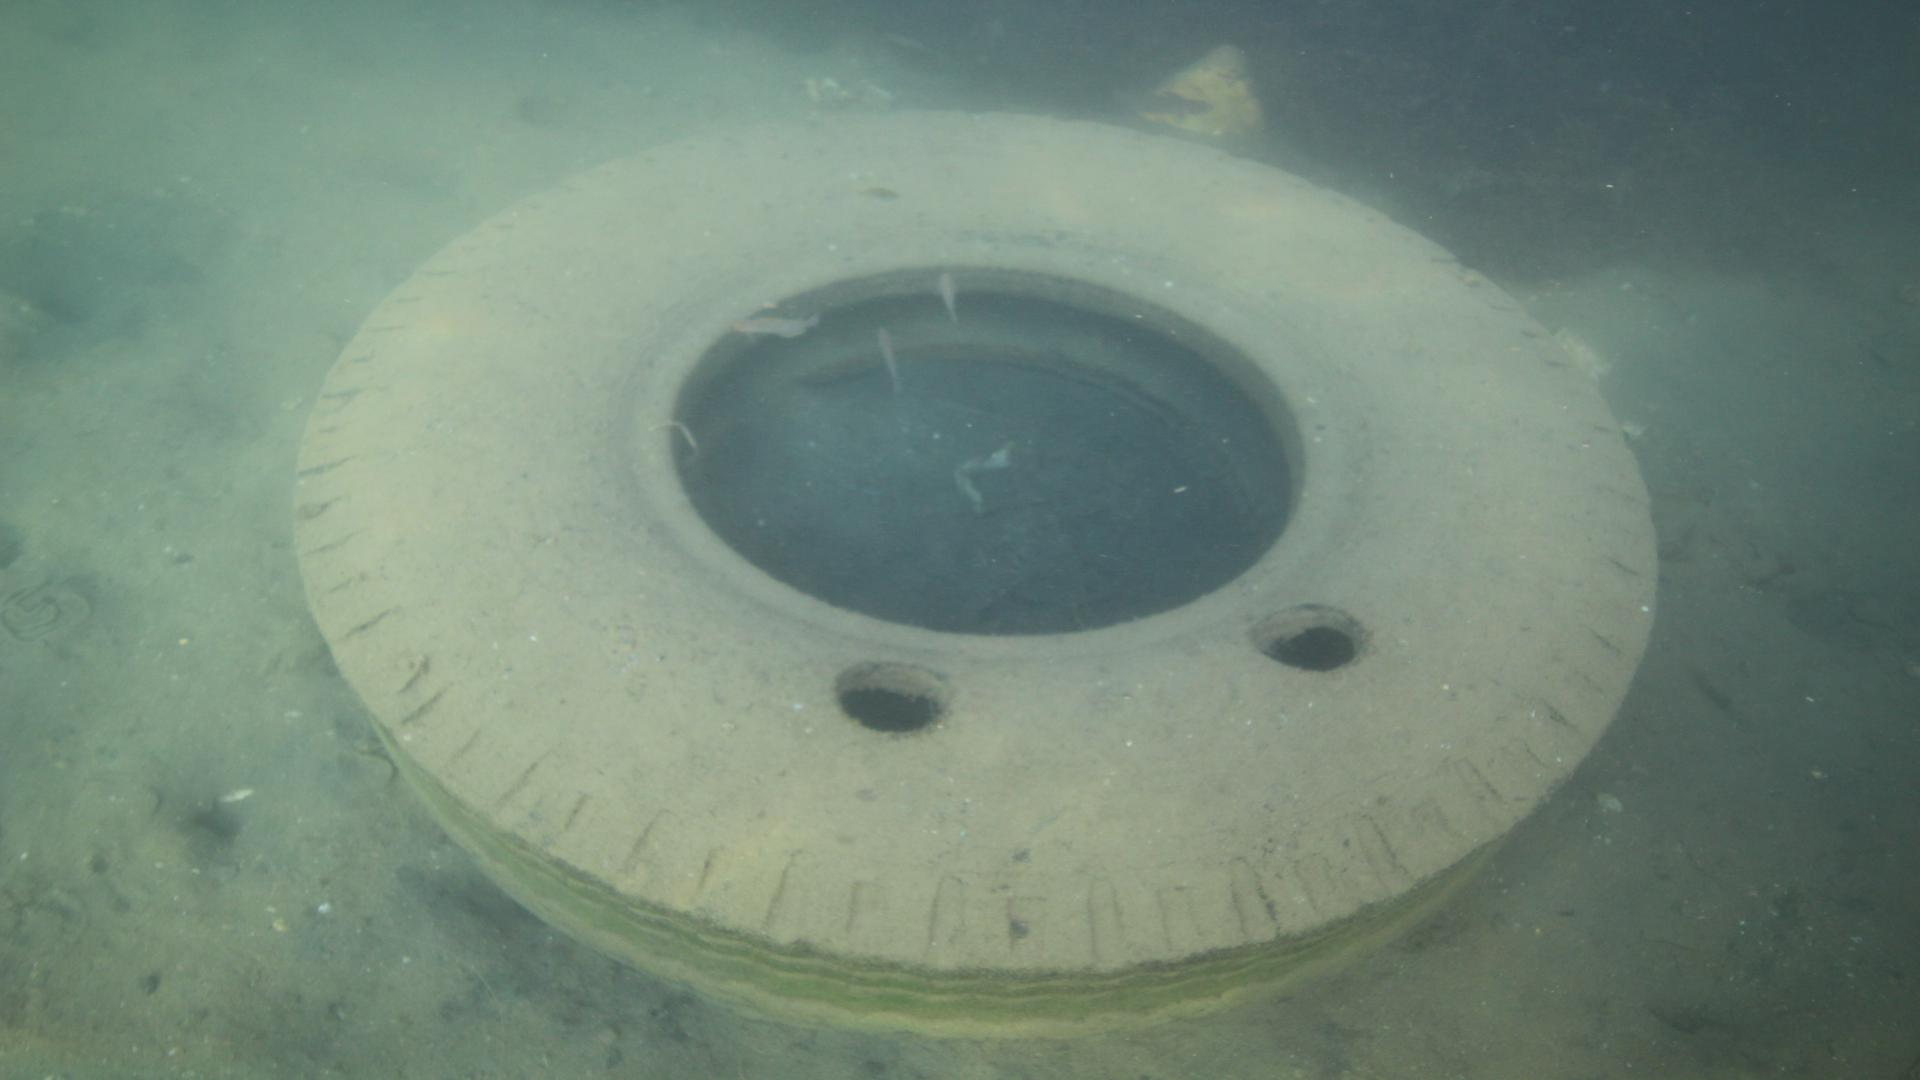tire: (285, 108, 1660, 1038)
